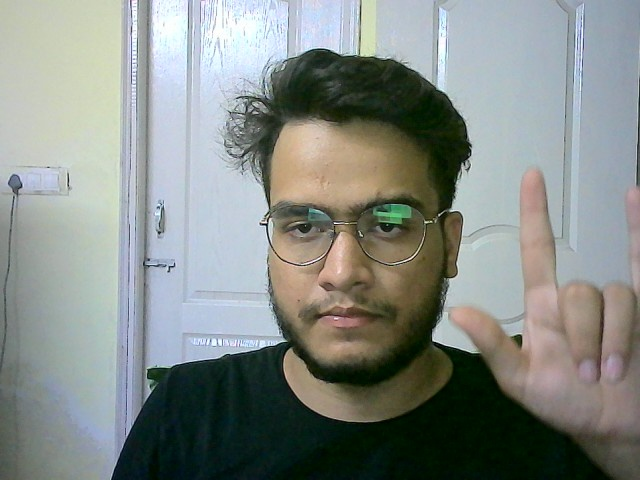I Love You: (451, 168, 640, 436)
